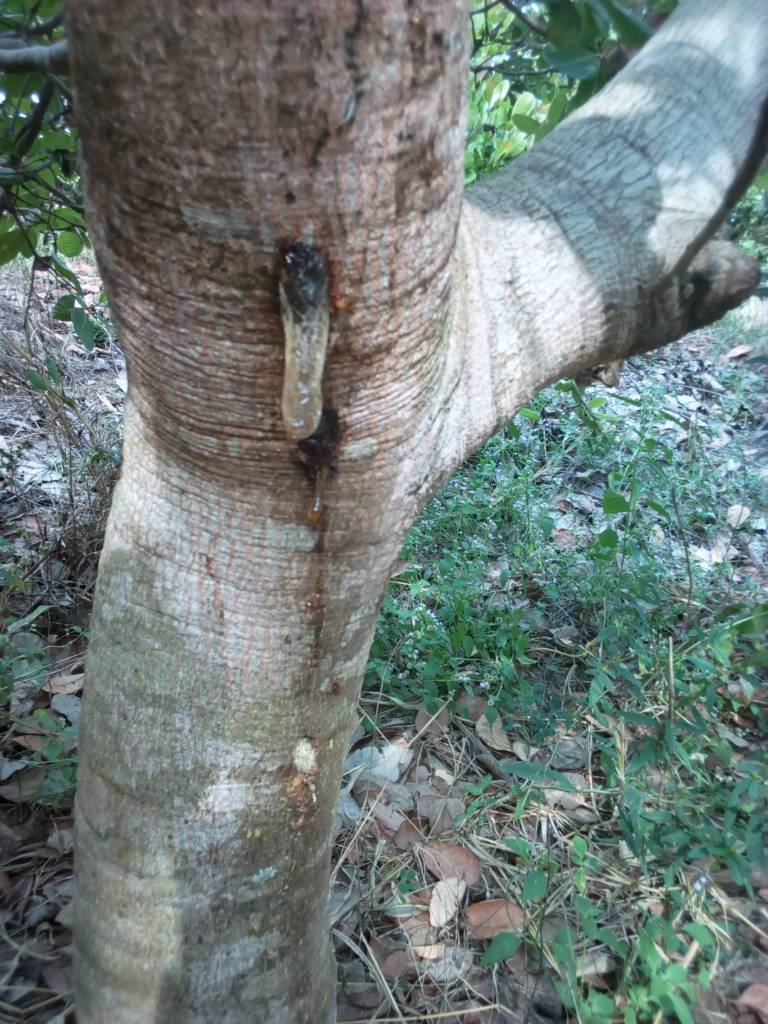Apate terebrans: (241, 233, 454, 460)
